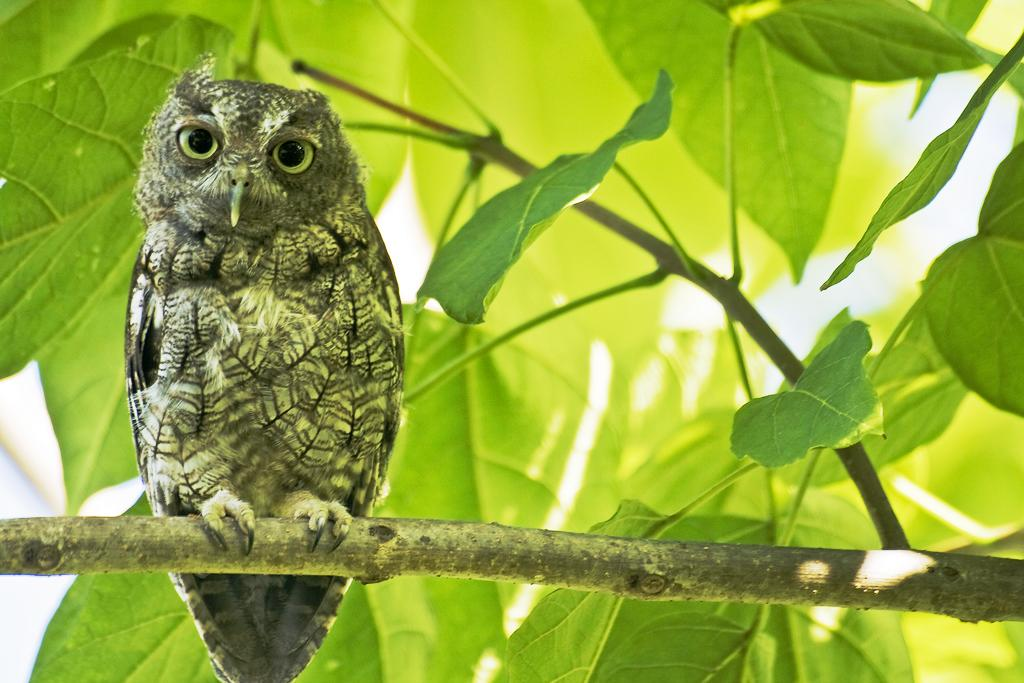Owl: (124, 69, 410, 682)
